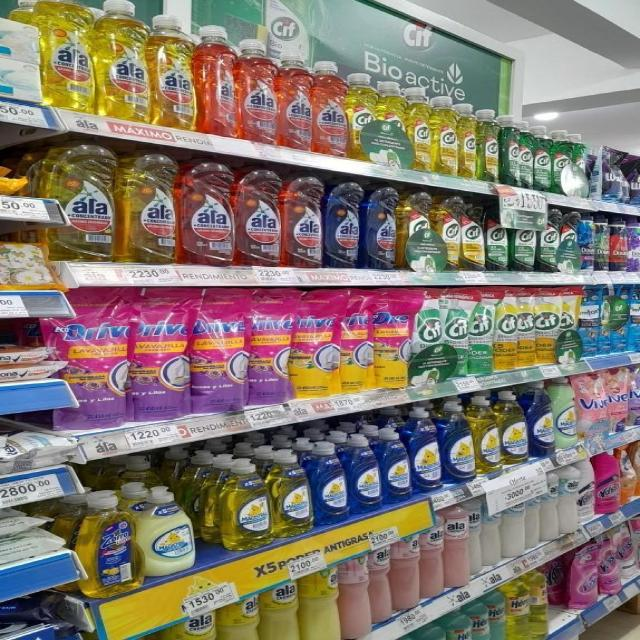ala_conc_amarillo: (42, 141, 117, 262), (120, 148, 178, 264), (96, 0, 149, 120), (41, 0, 93, 109), (151, 13, 196, 129)
ala_conc_azul: (324, 180, 362, 269), (363, 185, 397, 271)
ala_conc_rojo: (180, 160, 235, 267), (236, 167, 282, 268), (197, 24, 238, 137), (240, 36, 278, 144), (284, 172, 324, 268), (278, 48, 313, 150), (313, 60, 349, 156)
ala_crem_amarillo: (300, 559, 339, 640), (261, 571, 299, 640), (218, 588, 260, 640), (166, 605, 216, 640)
ala_crem_blanco: (502, 490, 524, 560), (482, 496, 500, 568), (525, 484, 541, 549), (469, 498, 482, 577), (542, 474, 557, 542)
ala_crem_rosado: (340, 547, 370, 640), (392, 522, 420, 610), (444, 504, 468, 590), (370, 532, 392, 624), (421, 509, 443, 598)
cif_conc_bot_amarilla: (399, 190, 437, 272), (348, 72, 378, 162), (378, 80, 407, 167), (432, 96, 458, 176), (408, 88, 432, 172), (438, 194, 461, 271), (462, 197, 484, 270), (478, 108, 499, 183), (458, 102, 478, 179)
cif_conc_botella_verde: (500, 114, 530, 188), (485, 202, 508, 272), (510, 207, 535, 271), (532, 123, 552, 191), (537, 209, 558, 272), (558, 210, 578, 272), (552, 128, 570, 194)
cif_conc_sachet_amarillo: (535, 286, 559, 366), (494, 288, 516, 371), (558, 286, 578, 364), (516, 286, 535, 368)
cif_conc_sachet_verde: (411, 291, 444, 382), (468, 289, 493, 375), (444, 290, 467, 378)
drive: (130, 287, 188, 420), (191, 287, 246, 413)
heroe: (508, 580, 528, 640), (490, 590, 508, 640), (448, 611, 471, 640)
magistral_con_amarillo: (219, 456, 269, 550), (272, 446, 310, 536), (500, 390, 527, 466), (474, 394, 499, 474)
magistral_con_azul: (312, 440, 347, 524), (410, 405, 440, 493), (348, 433, 380, 515), (442, 399, 473, 483), (382, 429, 409, 503), (528, 383, 554, 458), (555, 379, 578, 450)
magistral_con_crema: (136, 487, 196, 577)
